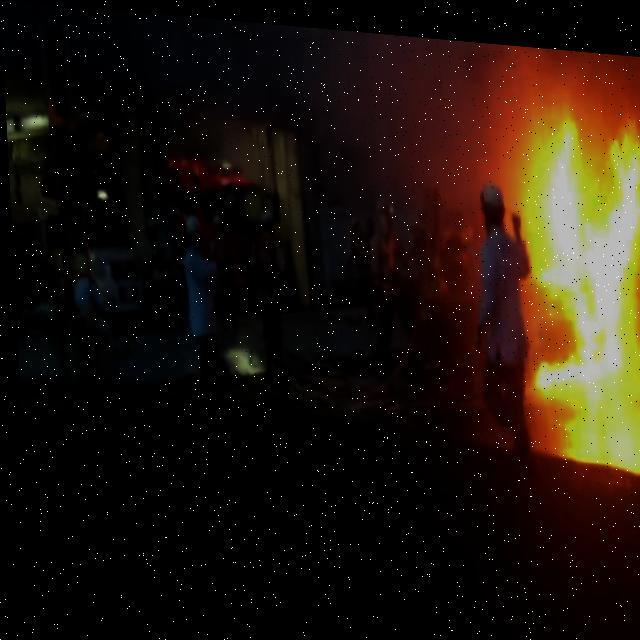Fire: (497, 95, 639, 464)
